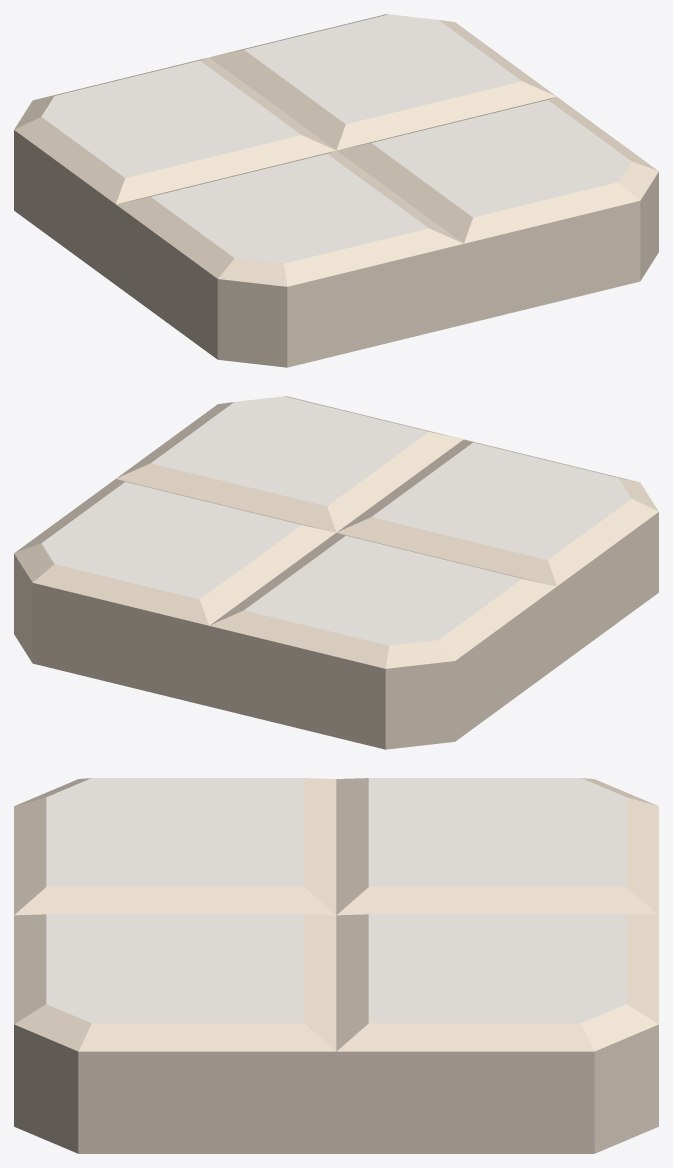
The model's file is Puzzle_Sliding_Platform_1x1.glb.
The picture shows the model from 3 angles, top to bottom: view 1: azimuth 30°, elevation 25°; view 2: azimuth 150°, elevation 25°; view 3: azimuth 270°, elevation 25°; orthographic projection. The views are drawn at different scales.
Visible parts, largest first — view 1: Puzzle_Sliding_Platform_1x1; view 2: Puzzle_Sliding_Platform_1x1; view 3: Puzzle_Sliding_Platform_1x1.
Part boxes in pixels (x1=…): Puzzle_Sliding_Platform_1x1: x1=14, y1=14, x2=658, y2=367; Puzzle_Sliding_Platform_1x1: x1=14, y1=396, x2=658, y2=749; Puzzle_Sliding_Platform_1x1: x1=14, y1=778, x2=658, y2=1153.
Size of the model in its own units: 1 by 0.3 by 1.
